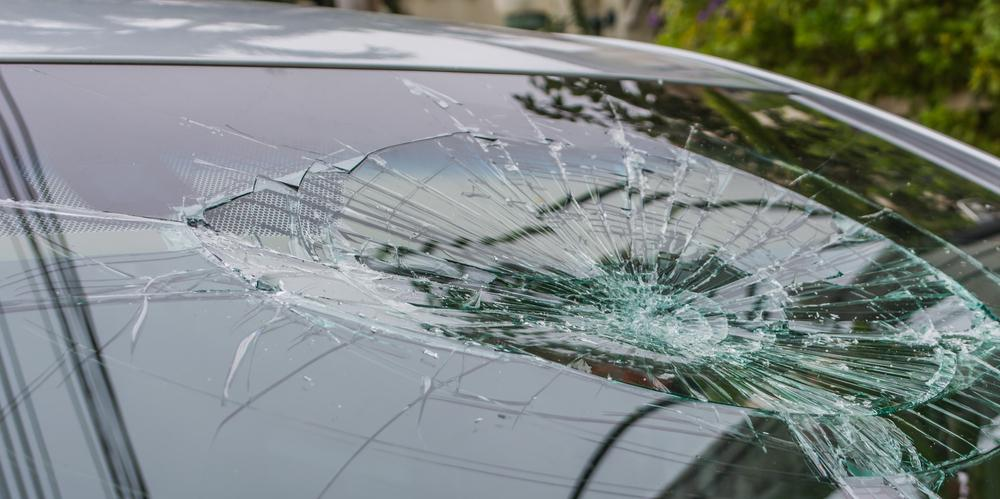glass shatter: (0, 60, 1000, 499)
